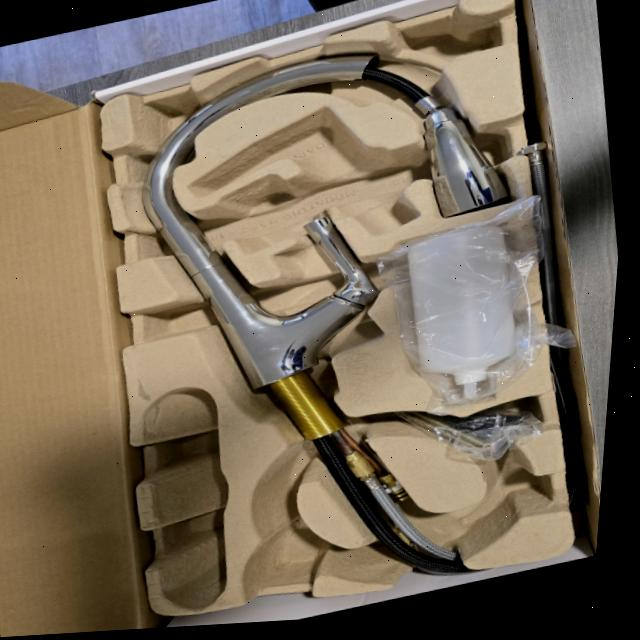1: (136, 53, 511, 573)
2m: (188, 108, 418, 236)
3: (398, 225, 520, 403)
4m: (142, 390, 228, 610)
5m: (251, 523, 325, 587)
6m: (443, 462, 547, 547)
7: (390, 397, 545, 459)
